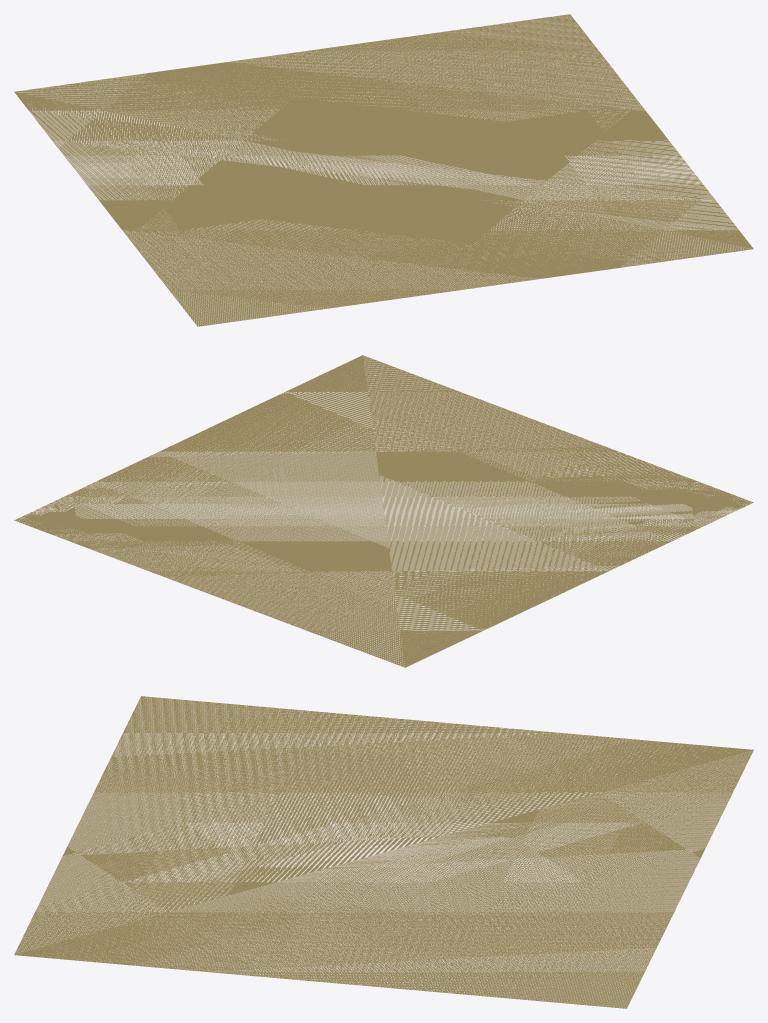
The model's file is 大本钟210.dae.
3 renders of one model, top to bottom at view 1: azimuth 30°, elevation 25°; view 2: azimuth 150°, elevation 25°; view 3: azimuth 270°, elevation 25°, orthographic. The views are drawn at different scales.
Visible parts, largest first — view 1: SketchUp; view 2: SketchUp; view 3: SketchUp.
Part boxes in pixels (x1,y1,x2,y2): SketchUp: (14,14,753,326); SketchUp: (14,355,753,667); SketchUp: (14,696,753,1008).
Bounding box in the file's own units: 2.36 × 2.36 × 0.
